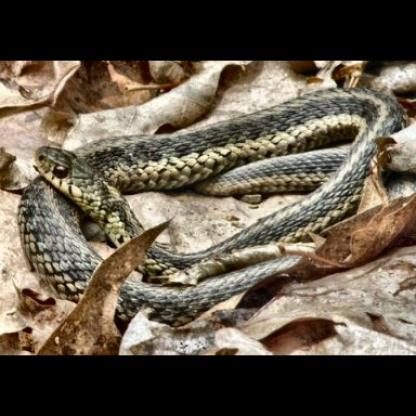Snake: (15, 86, 413, 321)
